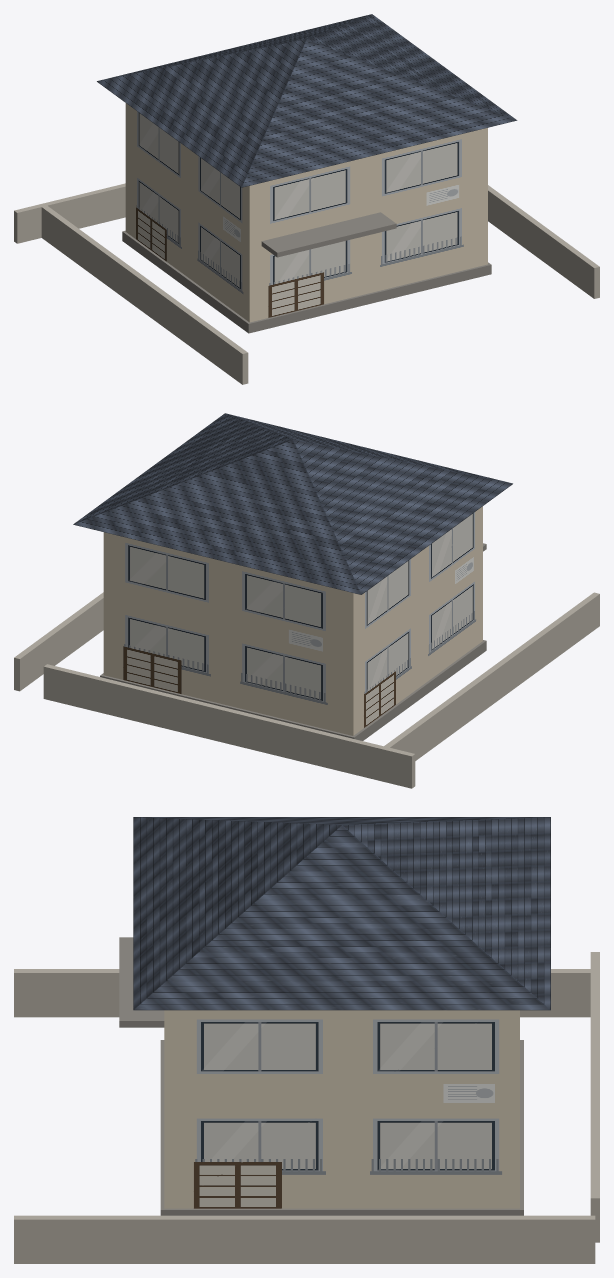
Rendered from house_b.glb.
3 renders of one model, top to bottom at view 1: azimuth 30°, elevation 25°; view 2: azimuth 150°, elevation 25°; view 3: azimuth 270°, elevation 25°, orthographic. The views are drawn at different scales.
Parts seen in each view (by area): view 1: jhouse; view 2: jhouse; view 3: jhouse.
Boxes of the visible parts, box(x1,y1,x2,y2) form: jhouse: box(14, 14, 599, 384); jhouse: box(14, 413, 599, 788); jhouse: box(14, 817, 599, 1263).
Bounding box in the file's own units: 16.83 × 9.2 × 15.58.
4 materials, 2 textured.
